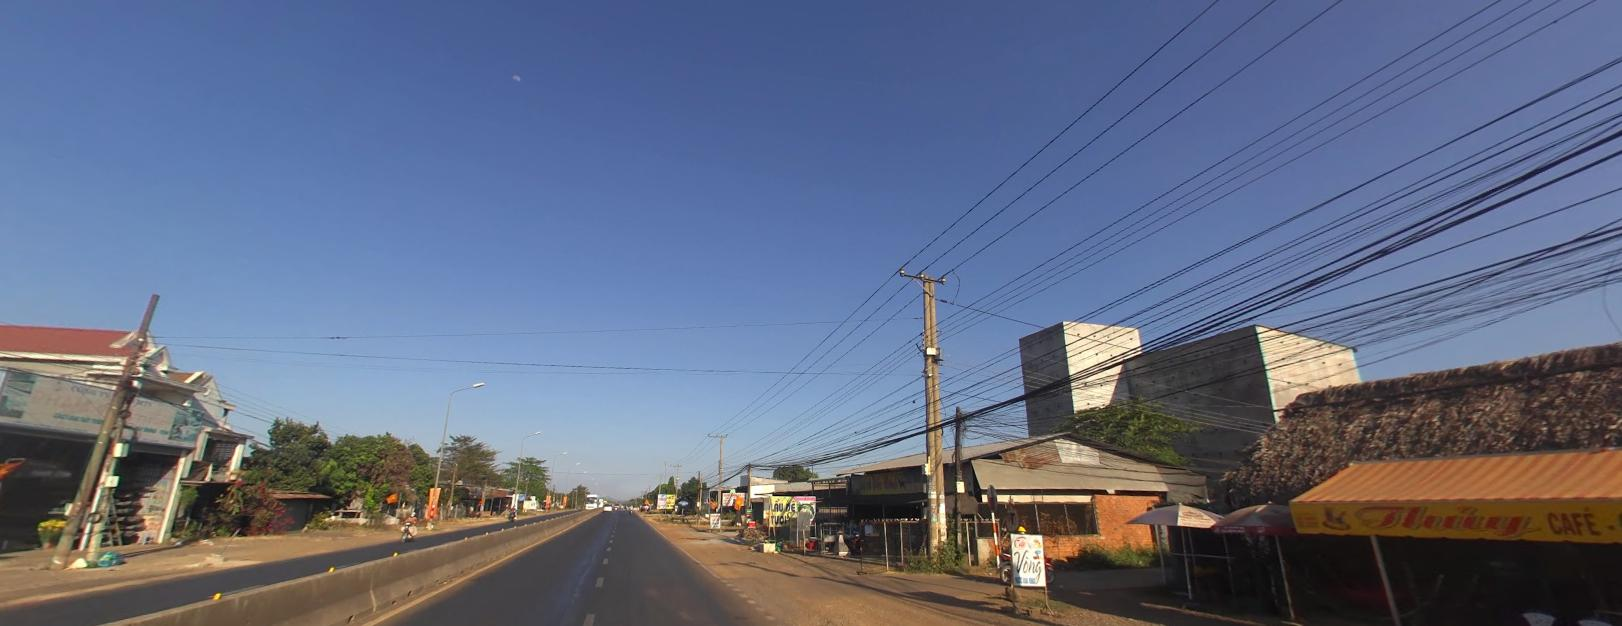Nguy hiem: (643, 497, 649, 502)
